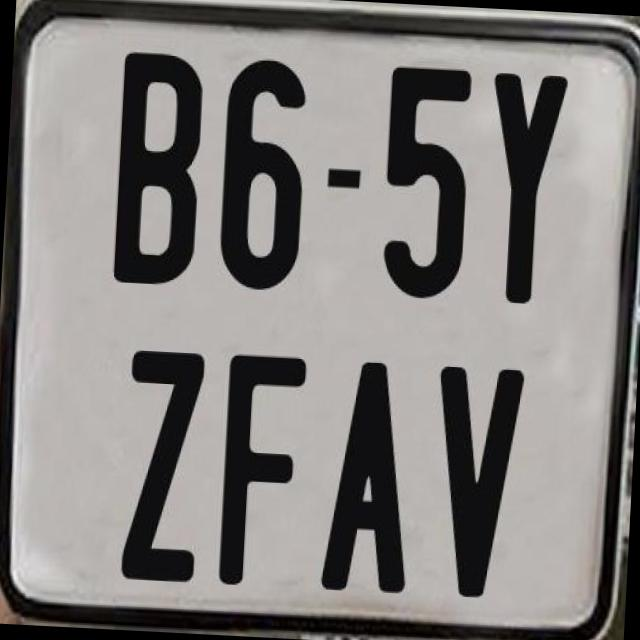5: (377, 64, 477, 305)
6: (215, 52, 307, 293)
A: (319, 356, 418, 598)
B: (110, 49, 206, 288)
F: (214, 348, 312, 592)
V: (428, 365, 528, 598)
Y: (479, 70, 574, 308)
Z: (116, 348, 204, 590)
